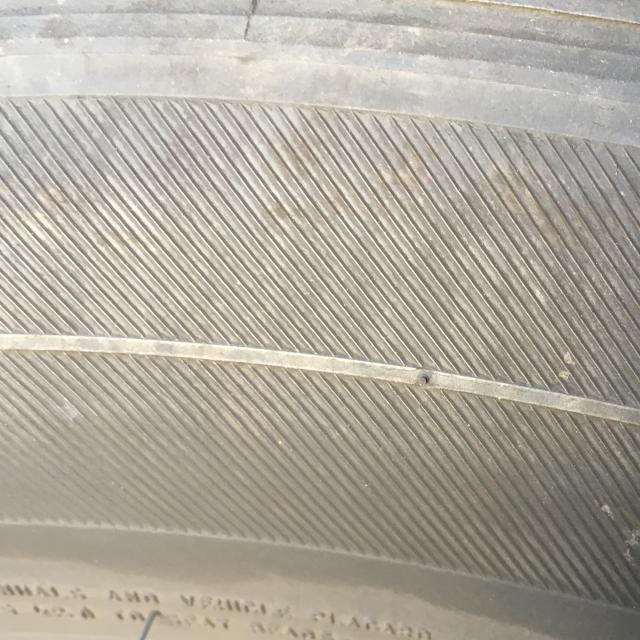Cracks: (229, 0, 274, 46)
Non-defective: (0, 52, 640, 640)
